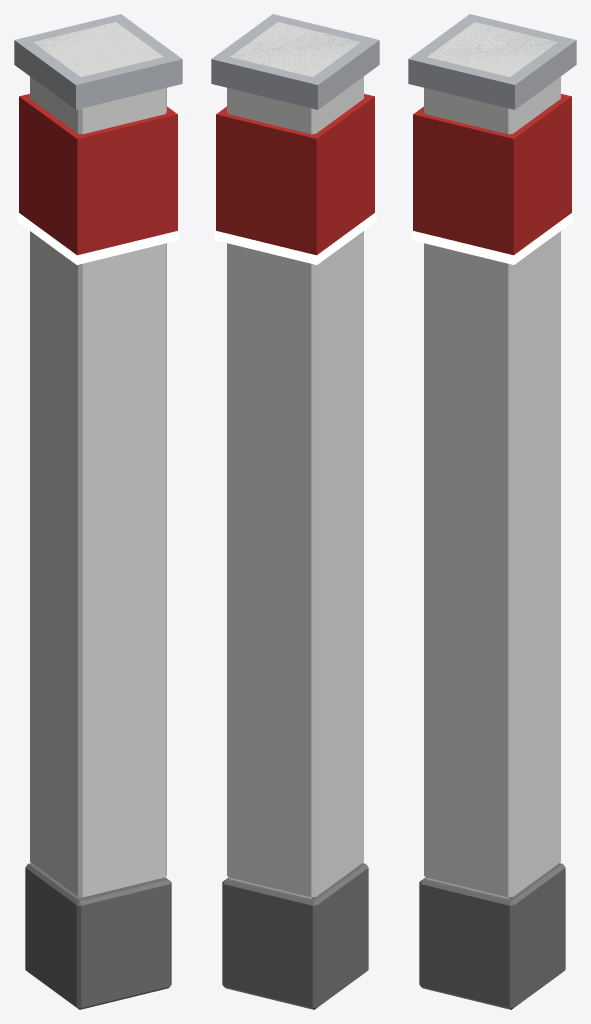
File: Store24_Wall_Corner.glb
3 views of the same model, side by side, from view 1: azimuth 30°, elevation 25°; view 2: azimuth 150°, elevation 25°; view 3: azimuth 330°, elevation 25° (orthographic).
Visible parts, largest first — view 1: Store24_Wall_Corner; view 2: Store24_Wall_Corner; view 3: Store24_Wall_Corner.
Boxes of the visible parts, x1,y1,x2,y2 form: Store24_Wall_Corner: (14, 14, 182, 1009); Store24_Wall_Corner: (211, 14, 379, 1009); Store24_Wall_Corner: (408, 14, 576, 1009).
Bounding box in the file's own units: 0.36 × 3 × 0.36.
Materials: 1 (1 with a texture image).
